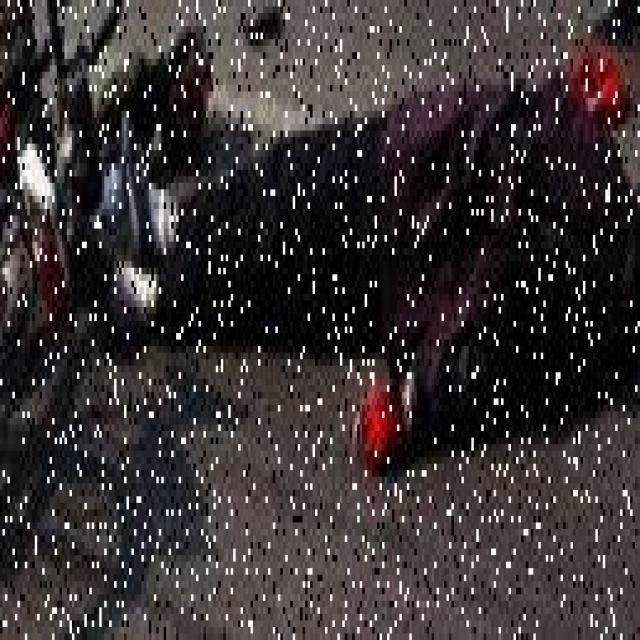fall: (85, 66, 638, 450)
